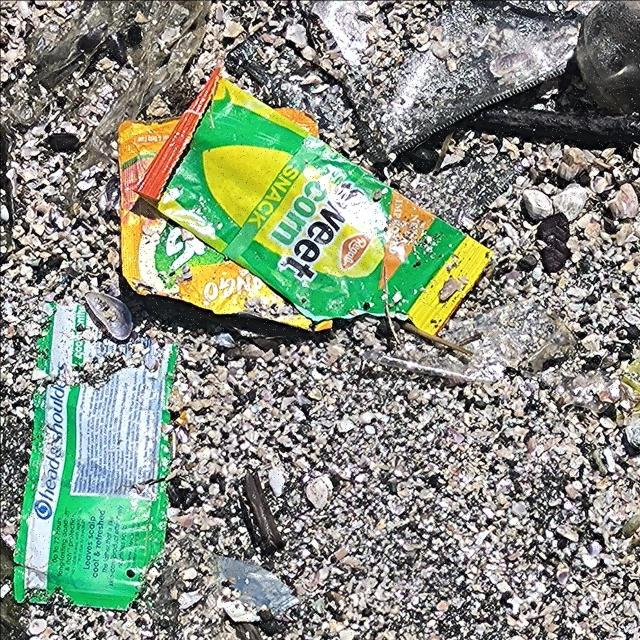plastic_waste: (118, 67, 497, 338), (12, 301, 181, 612)
